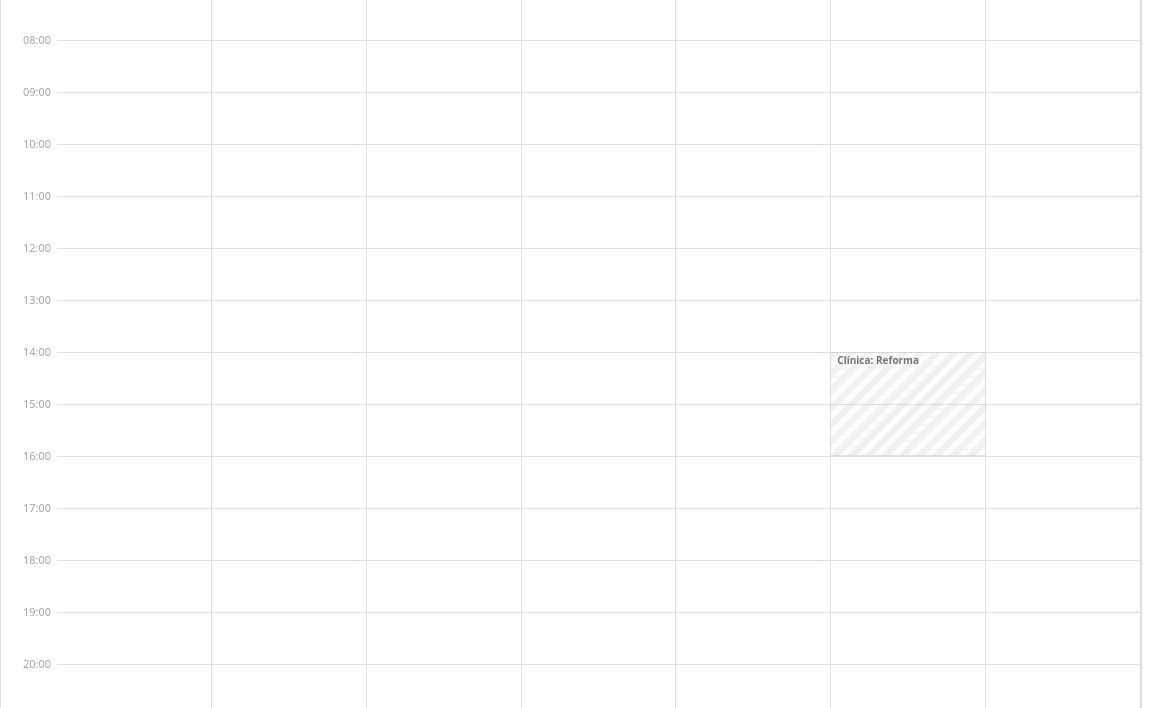
Test: AgendaPage — bloqueios e feriados (MIG-05) › bloqueio de toda a clínica na grade › com Administração abre o modal de edição
This screenshot has width=1152, height=708.
(page scrolled)
Step 1. Click the button with aria-label "Editar bloqueio: Clínica: Reforma" → {"x": 878, "y": 360}, box x1=837 y1=352 x2=919 y2=368
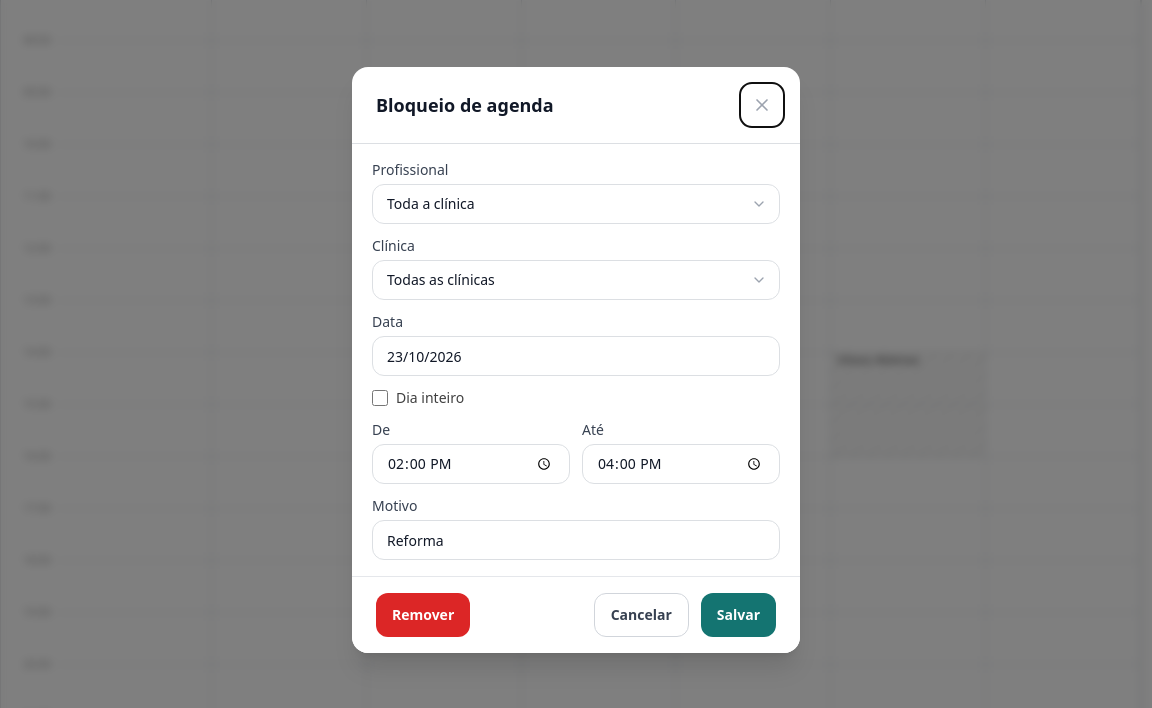
expect the button "Remover" is shown: met, box x1=376 y1=593 x2=470 y2=637
